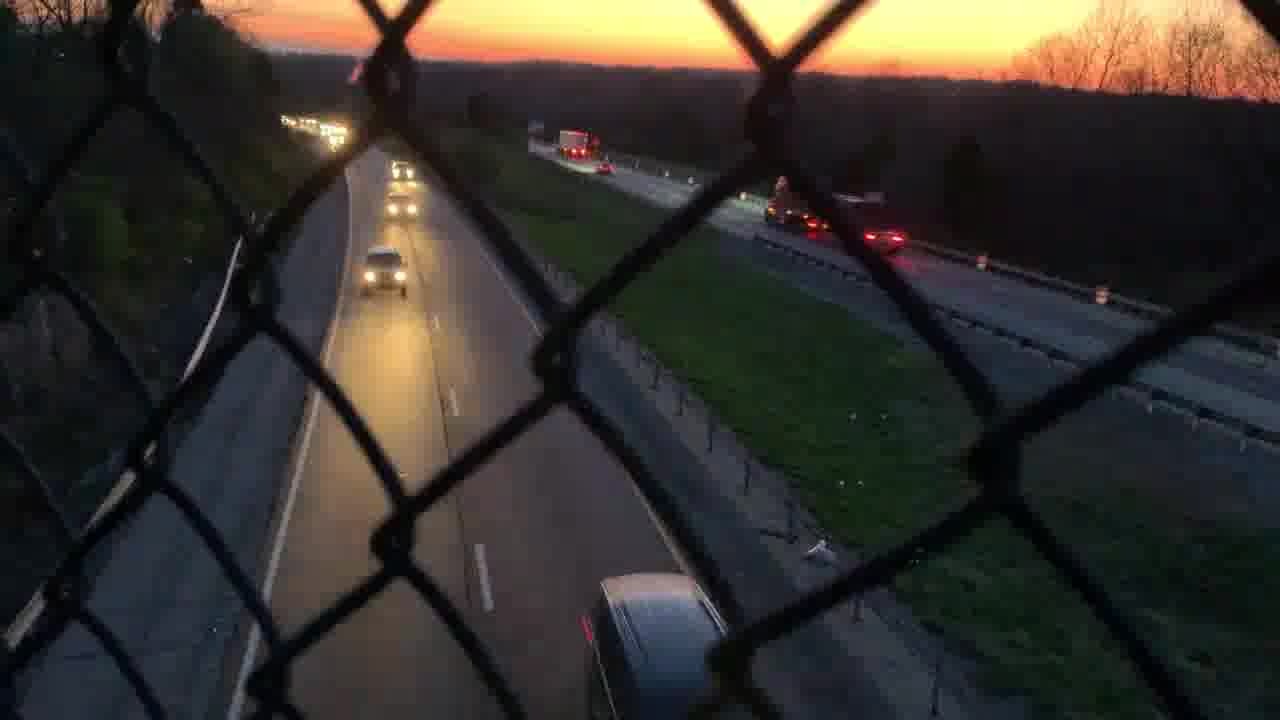heavyTruck: (771, 172, 911, 259), (555, 127, 590, 161)
largeCar: (585, 576, 744, 719), (357, 248, 415, 303)
smallCar: (383, 193, 422, 224)
